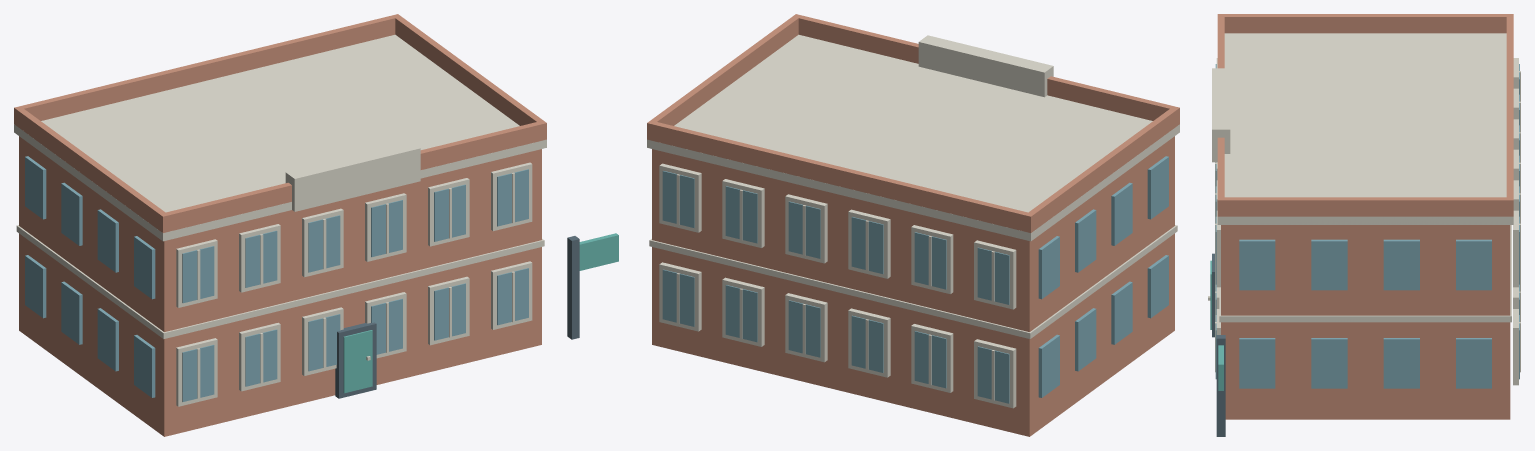
Rendered from school.glb.
The picture shows the model from 3 angles, left to right: view 1: azimuth 30°, elevation 25°; view 2: azimuth 150°, elevation 25°; view 3: azimuth 270°, elevation 25°; orthographic projection.
Visible parts, largest first — view 1: primary-school-brick, primary-school-concrete, primary-school-glass, primary-school-accent, primary-school-dark; view 2: primary-school-brick, primary-school-concrete, primary-school-glass; view 3: primary-school-concrete, primary-school-brick, primary-school-glass, primary-school-dark, primary-school-accent.
Boxes of the visible parts, <box> form: primary-school-brick: <box>14,14,546,436</box>; primary-school-concrete: <box>14,34,546,406</box>; primary-school-glass: <box>25,156,528,401</box>; primary-school-accent: <box>343,233,618,393</box>; primary-school-dark: <box>335,236,579,398</box>; primary-school-brick: <box>647,14,1179,436</box>; primary-school-concrete: <box>647,34,1179,408</box>; primary-school-glass: <box>662,156,1168,403</box>; primary-school-concrete: <box>1208,33,1520,385</box>; primary-school-brick: <box>1217,14,1513,419</box>; primary-school-glass: <box>1215,64,1519,388</box>; primary-school-dark: <box>1212,253,1225,436</box>; primary-school-accent: <box>1210,260,1223,390</box>.
Bounding box in the file's own units: 14.5 × 7 × 8.66.
